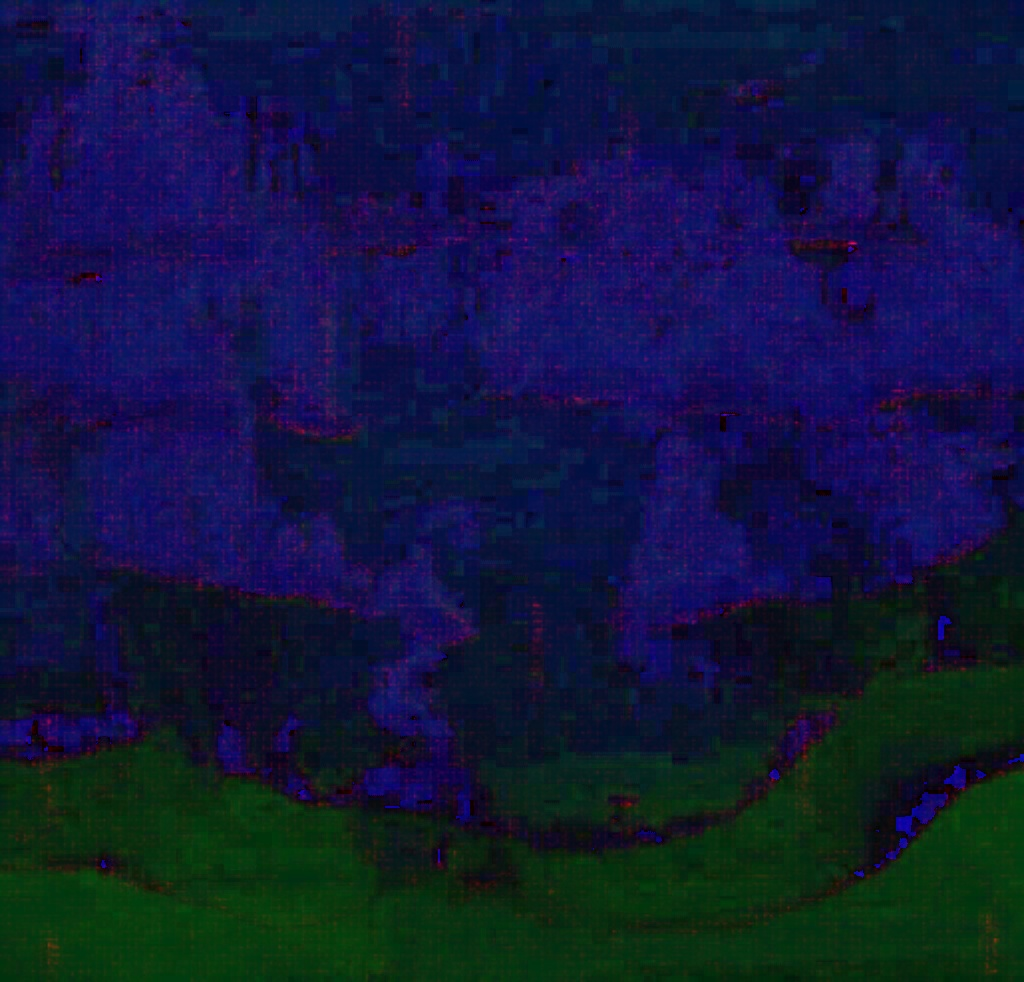rip_current: (300, 245, 771, 805)
